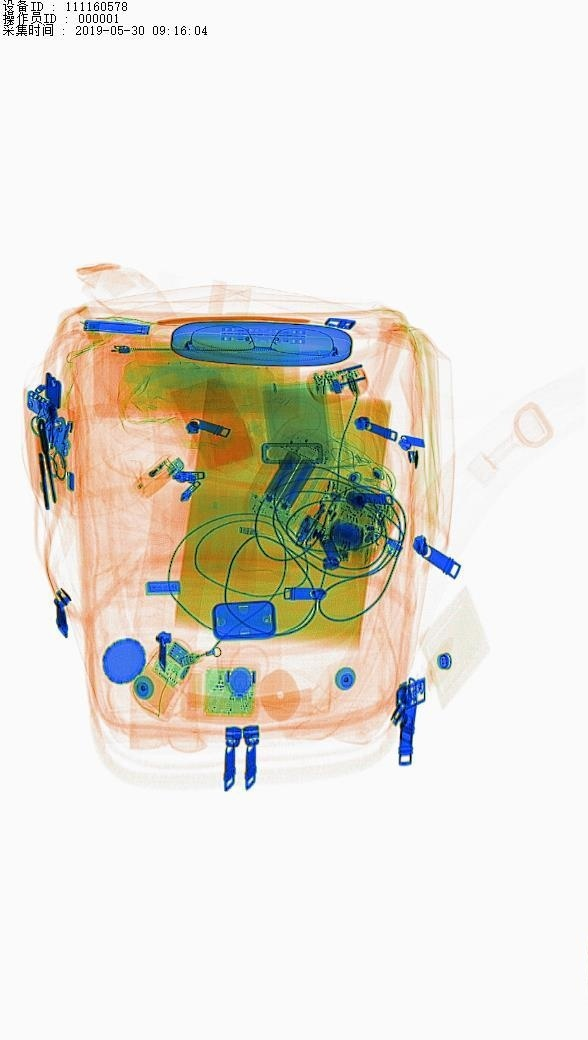NonmetallicFire: (127, 452, 189, 505)
